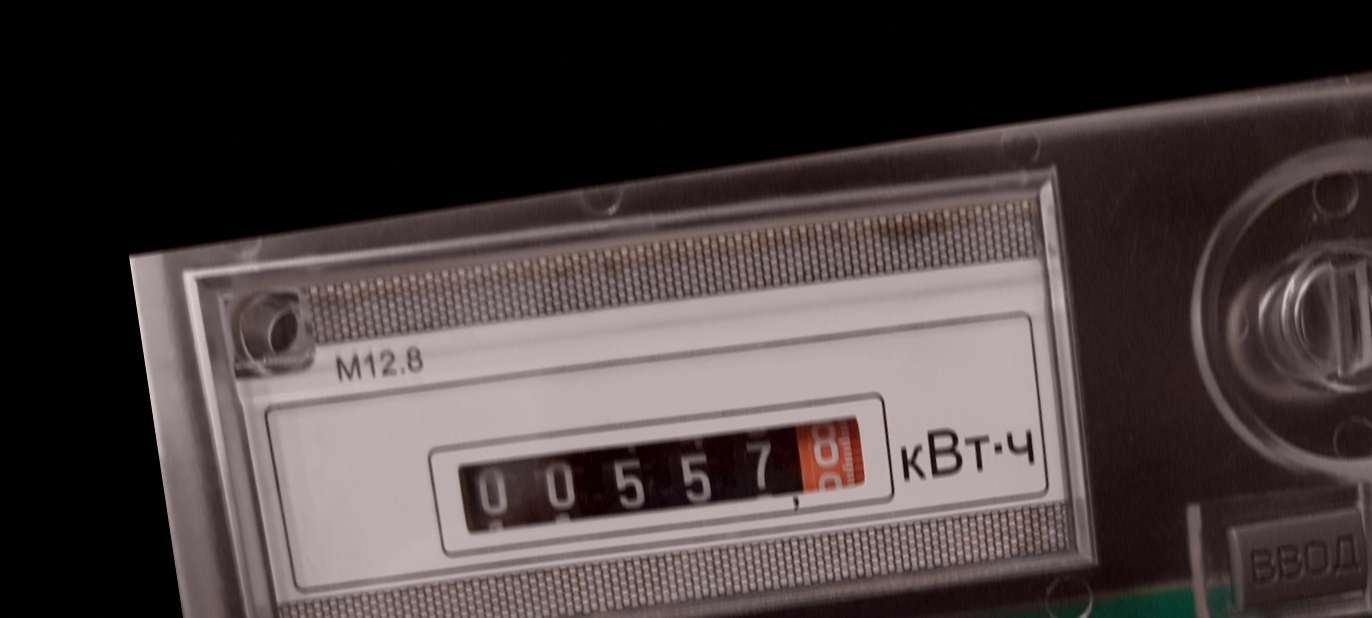0: (469, 460, 511, 520), (537, 455, 578, 512)
5: (671, 444, 717, 507), (605, 452, 648, 513)
7: (736, 434, 776, 494)
8: (805, 417, 840, 470)
screen: (419, 373, 901, 572)
